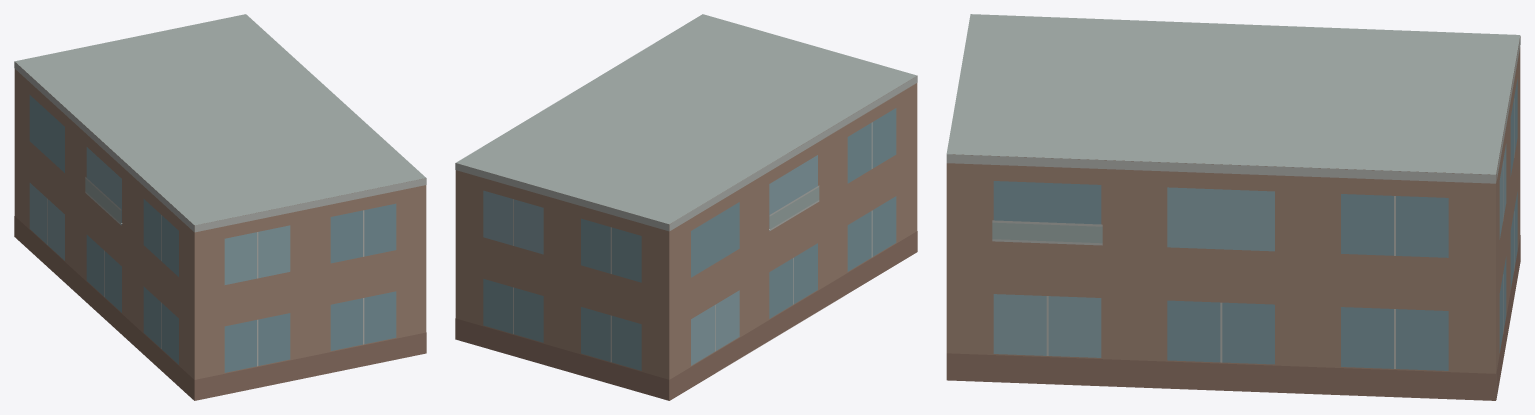
Rendered from survey-upis-32805551.glb.
The picture shows the model from 3 angles, left to right: view 1: azimuth 30°, elevation 25°; view 2: azimuth 150°, elevation 25°; view 3: azimuth 270°, elevation 25°; orthographic projection. The views are drawn at different scales.
Visible parts, largest first — view 1: survey-upis-32805551.tmp; view 2: survey-upis-32805551.tmp; view 3: survey-upis-32805551.tmp.
Boxes of the visible parts, x1,y1,x2,y2 form: survey-upis-32805551.tmp: (14, 14, 426, 400); survey-upis-32805551.tmp: (455, 14, 917, 400); survey-upis-32805551.tmp: (946, 14, 1520, 400).
Bounding box in the file's own units: 9.3 × 6.1 × 14.04.
